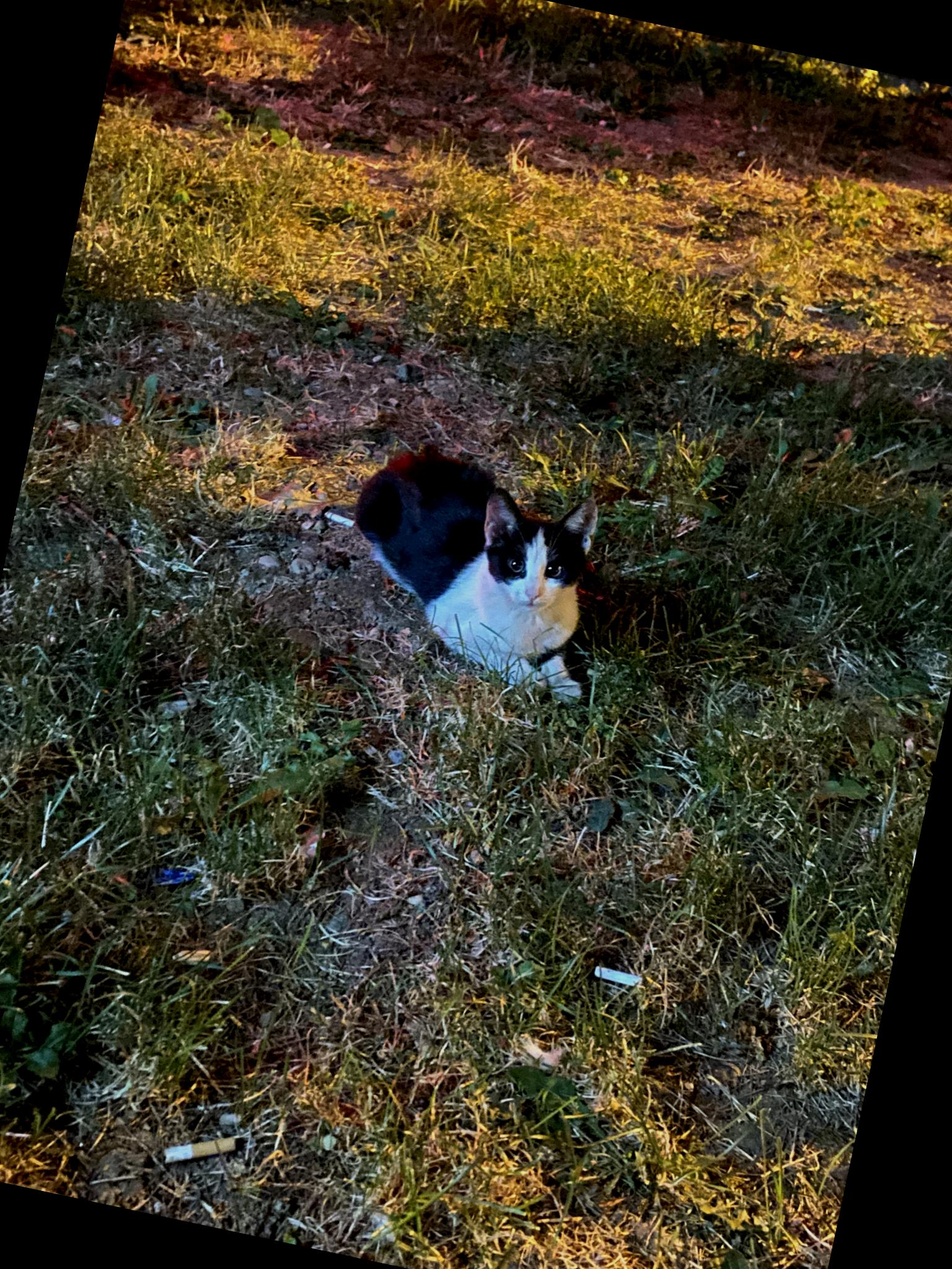macka: (324, 439, 630, 710)
